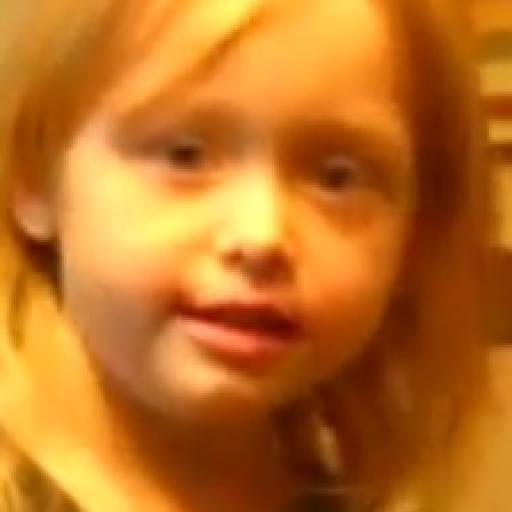Autism: (33, 0, 431, 447)
